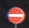No entry: (6, 6, 24, 23)
